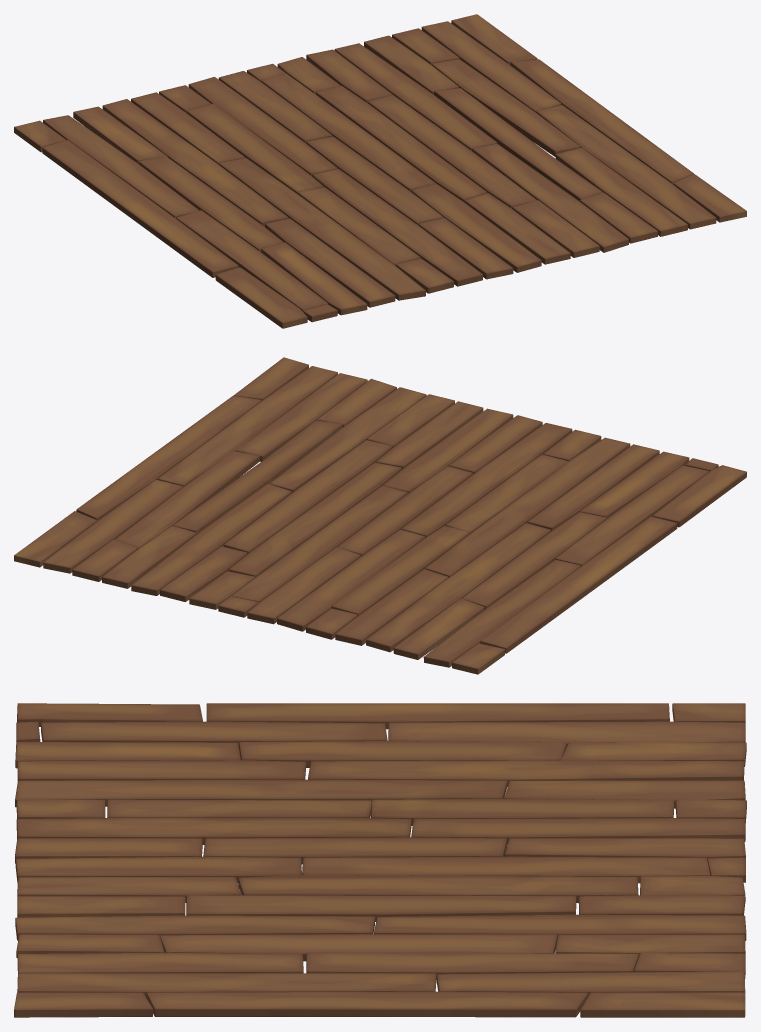
Rendered from WoodFloor.fbx.
The picture shows the model from 3 angles, top to bottom: view 1: azimuth 30°, elevation 25°; view 2: azimuth 150°, elevation 25°; view 3: azimuth 270°, elevation 25°; orthographic projection. The views are drawn at different scales.
Parts seen in each view (by area): view 1: Plane; view 2: Plane; view 3: Plane.
Boxes of the visible parts, <box> form: Plane: <box>14,14,746,328</box>; Plane: <box>14,357,746,674</box>; Plane: <box>14,703,746,1017</box>.
Size of the model in its own units: 199 by 3.79 by 201.
